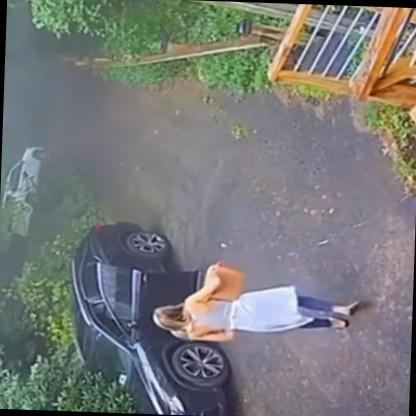Human Body: (147, 268, 364, 345)
